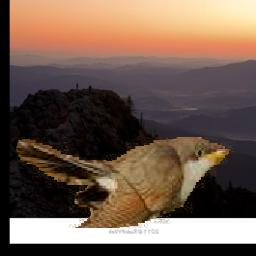Cuckoo: (15, 138, 233, 229)
